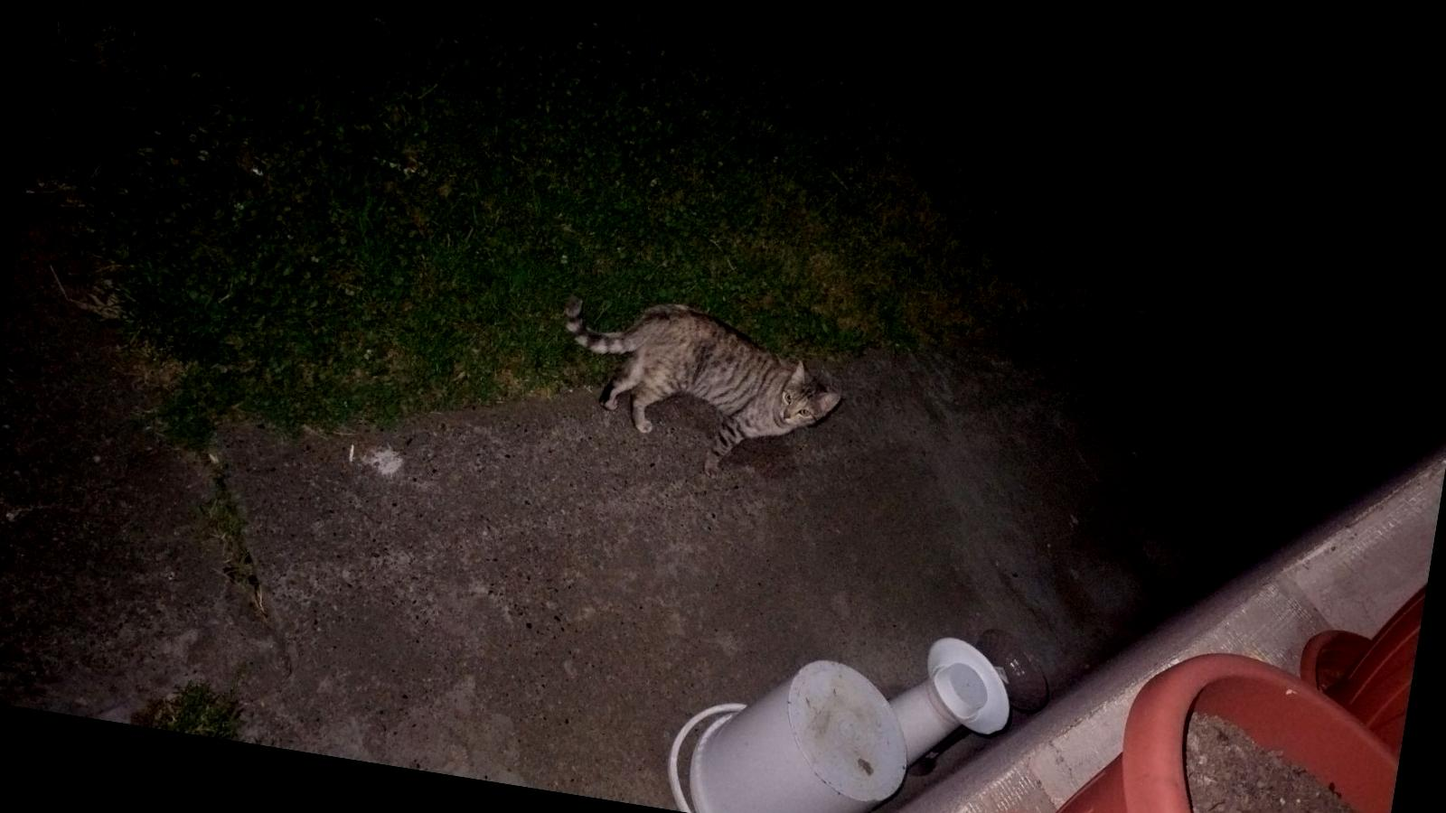macka: (543, 288, 851, 498)
